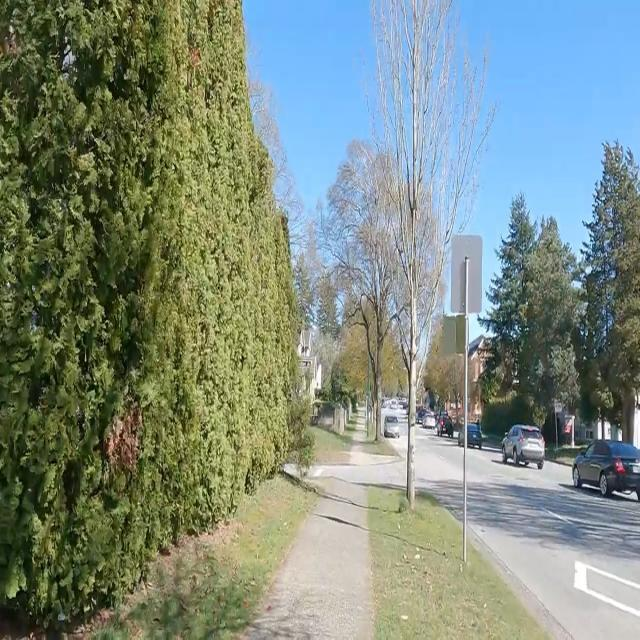Automobile: (573, 440, 639, 501), (502, 425, 544, 467), (467, 423, 483, 448), (383, 415, 399, 436), (438, 413, 451, 437), (418, 410, 434, 428), (458, 432, 462, 444)
Road: (469, 452, 639, 639), (421, 435, 461, 517), (294, 460, 402, 485)
Sidewalk: (242, 478, 374, 639)
